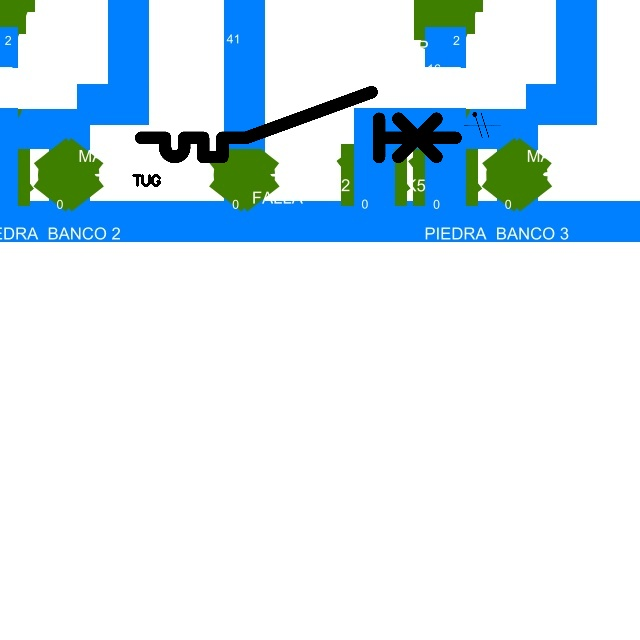interruptor_termomagnetico: (133, 84, 463, 165)
